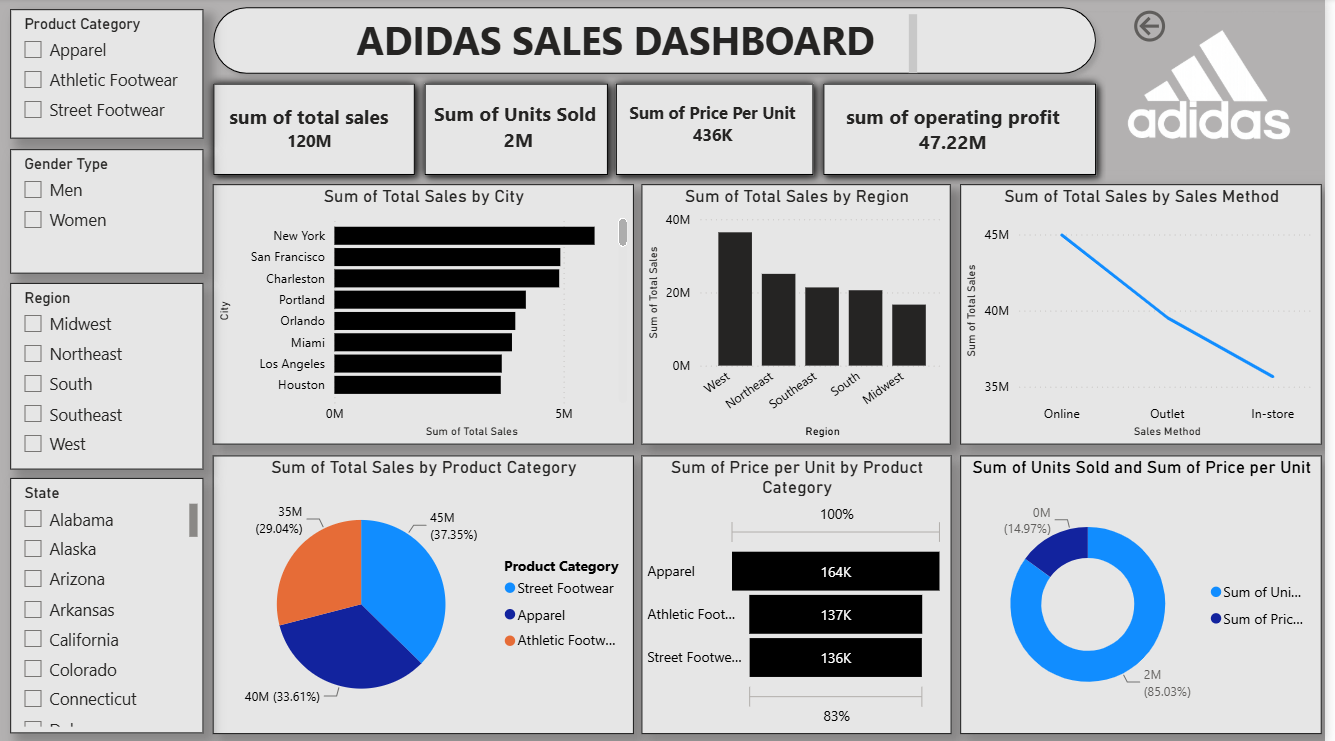

The dashboard page shown, as its layout file describes it:
{"tool":"powerbi","page":{"name":"Page 2","canvas":[1280,720],"ordinal":1},"visuals":[{"type":"shape","box":[197.9,0,869.8,82],"z":0},{"type":"textbox","box":[175,11.2,716.2,71.2],"z":1000},{"type":"clusteredBarChart","fields":{"Category":["Adidas_Sales.City"],"Y":["Sum(Adidas_Sales.Total Sales)"]},"box":[206.2,180,406.2,251.2],"z":2000},{"type":"columnChart","fields":{"Category":["Adidas_Sales.Region"],"Y":["Sum(Adidas_Sales.Total Sales)"]},"box":[620,180,298.8,251.2],"z":3000},{"type":"shape","box":[197.5,73.8,212.5,106.2],"z":4000},{"type":"textbox","box":[211.2,96.2,176.2,73.8],"z":5000},{"type":"shape","box":[401.2,73.8,195,106.2],"z":6000},{"type":"textbox","box":[410,93.8,176.2,75],"z":7000},{"type":"shape","box":[586.2,73.8,208.8,106.2],"z":8000},{"type":"textbox","box":[596.2,93.8,185,75],"z":9000},{"type":"pieChart","fields":{"Category":["Adidas_Sales.Product Category"],"Y":["Sum(Adidas_Sales.Total Sales)"]},"box":[206.2,441.2,406.2,268.8],"z":10000},{"type":"lineChart","fields":{"Y":["Sum(Adidas_Sales.Total Sales)"],"Category":["Adidas_Sales.Sales Method"]},"box":[927.5,180,348.8,251.2],"z":11000},{"type":"funnel","fields":{"Category":["Adidas_Sales.Product Category"],"Y":["Sum(Adidas_Sales.Price per Unit)"]},"box":[620,441,299,269],"z":12000},{"type":"donutChart","fields":{"Y":["Sum(Adidas_Sales.Units Sold)","Sum(Adidas_Sales.Price per Unit)"]},"box":[928,441,349,269],"z":13000},{"type":"shape","box":[786.2,73.8,281.2,106.2],"z":14000},{"type":"textbox","box":[795,96.2,251.2,70],"z":15000},{"type":"slicer","fields":{"Values":["Adidas_Sales.Product Category"]},"box":[11.2,11.2,186.2,125],"z":16000},{"type":"slicer","fields":{"Values":["Adidas_Sales.Gender Type"]},"box":[11.2,146.2,186.2,120],"z":17000},{"type":"slicer","fields":{"Values":["Adidas_Sales.Region"]},"box":[11.2,275,186.2,180],"z":18000},{"type":"slicer","fields":{"Values":["Adidas_Sales.State"]},"box":[11.2,463.8,186.2,246.2],"z":19000},{"type":"image","box":[1046,0,230.4,179.8],"z":20000},{"type":"actionButton","box":[1090.6,7.2,41,39.8],"z":21000}]}

Visuals, with their boxes on the page's 1280x720 design canvas (x1, y1, x2, y2). These are canvas units, not pixel positions in the 1335x741 screenshot, which may show the page scaled, cropped or inside an application window:
shape: <region>198, 0, 1068, 82</region>
textbox: <region>175, 11, 891, 82</region>
clusteredBarChart - Adidas_Sales.City x Sum(Adidas_Sales.Total Sales): <region>206, 180, 612, 431</region>
columnChart - Adidas_Sales.Region x Sum(Adidas_Sales.Total Sales): <region>620, 180, 919, 431</region>
shape: <region>198, 74, 410, 180</region>
textbox: <region>211, 96, 387, 170</region>
shape: <region>401, 74, 596, 180</region>
textbox: <region>410, 94, 586, 169</region>
shape: <region>586, 74, 795, 180</region>
textbox: <region>596, 94, 781, 169</region>
pieChart - Adidas_Sales.Product Category x Sum(Adidas_Sales.Total Sales): <region>206, 441, 612, 710</region>
lineChart - Sum(Adidas_Sales.Total Sales) x Adidas_Sales.Sales Method: <region>928, 180, 1276, 431</region>
funnel - Adidas_Sales.Product Category x Sum(Adidas_Sales.Price per Unit): <region>620, 441, 919, 710</region>
donutChart - Sum(Adidas_Sales.Units Sold) x Sum(Adidas_Sales.Price per Unit): <region>928, 441, 1277, 710</region>
shape: <region>786, 74, 1067, 180</region>
textbox: <region>795, 96, 1046, 166</region>
slicer - Adidas_Sales.Product Category: <region>11, 11, 197, 136</region>
slicer - Adidas_Sales.Gender Type: <region>11, 146, 197, 266</region>
slicer - Adidas_Sales.Region: <region>11, 275, 197, 455</region>
slicer - Adidas_Sales.State: <region>11, 464, 197, 710</region>
image: <region>1046, 0, 1276, 180</region>
actionButton: <region>1091, 7, 1132, 47</region>
